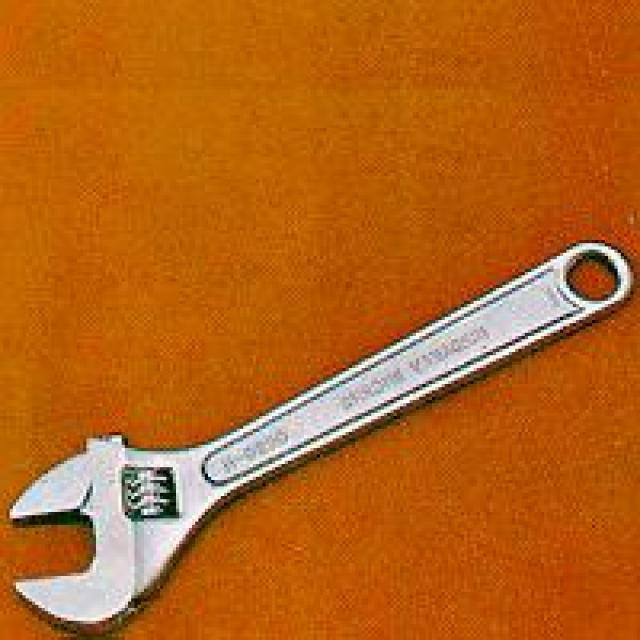wrench: (0, 235, 640, 640)
